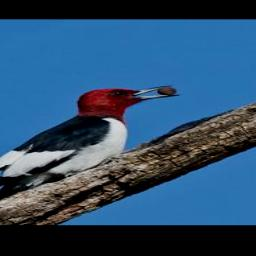Woodpecker: (0, 82, 184, 198)
